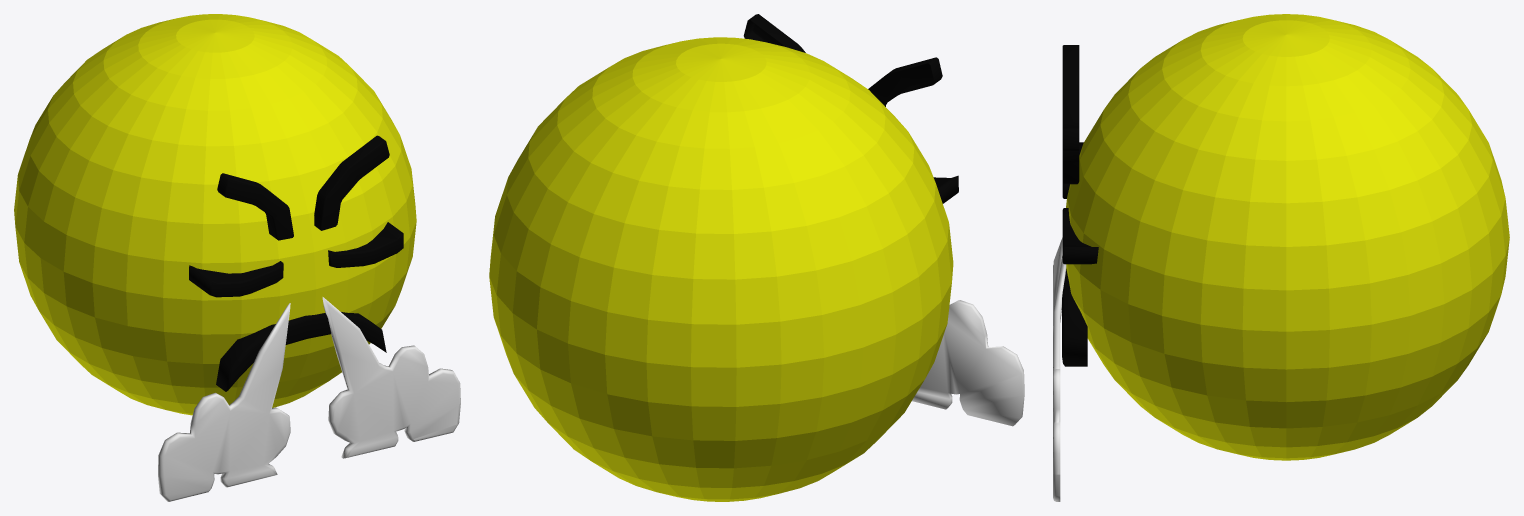
The model's file is Angry2.fbx.
3 renders of one model, left to right at view 1: azimuth 30°, elevation 25°; view 2: azimuth 150°, elevation 25°; view 3: azimuth 270°, elevation 25°, orthographic. The views are drawn at different scales.
Visible parts, largest first — view 1: Angry2; view 2: Angry2; view 3: Angry2.
Boxes of the visible parts, x1=… form: Angry2: x1=14, y1=14, x2=460, y2=501; Angry2: x1=489, y1=14, x2=1024, y2=501; Angry2: x1=1053, y1=14, x2=1509, y2=501.
Bounding box in the file's own units: 89.67 × 89.67 × 91.59.
